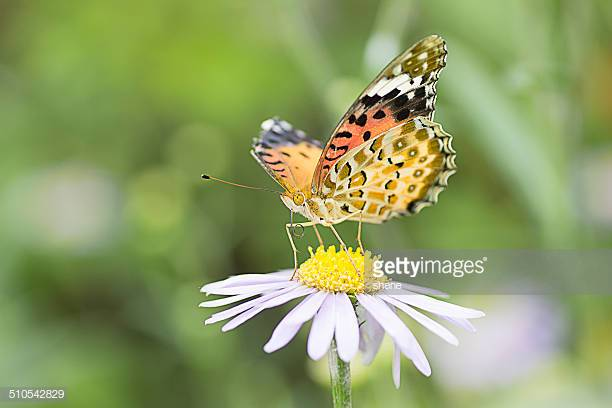Argyreus hyperbius: (196, 29, 464, 281)
butterfly: (198, 31, 466, 283)
